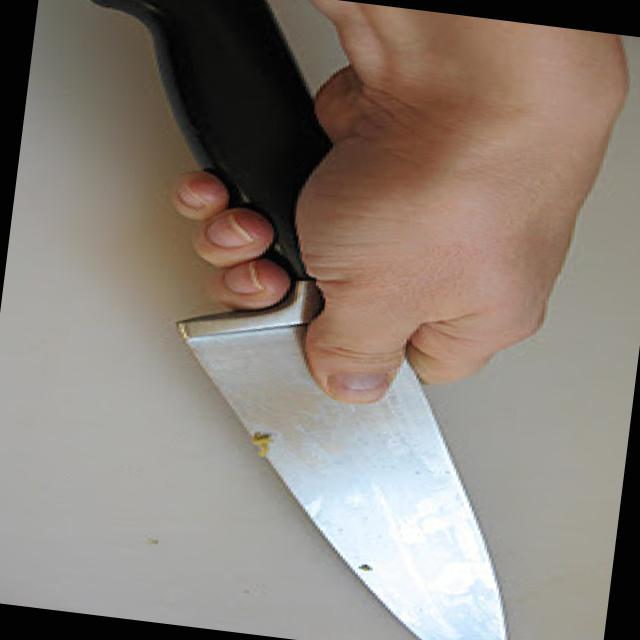knife: (85, 215, 583, 639)
